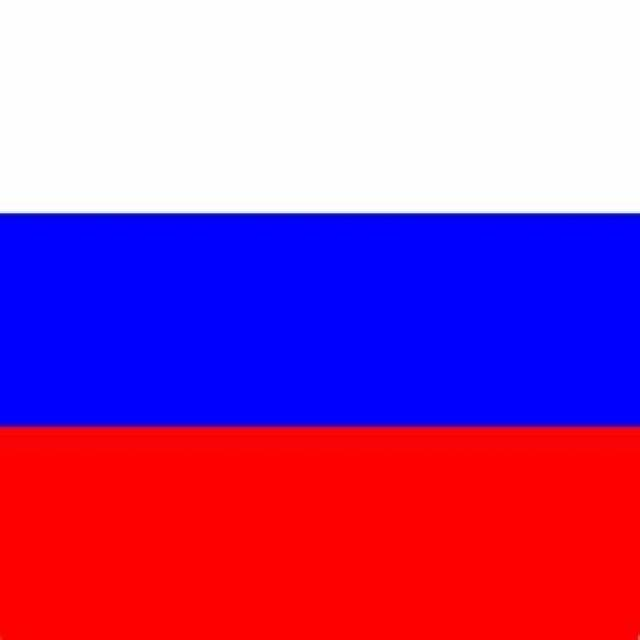russia: (1, 3, 640, 639)
